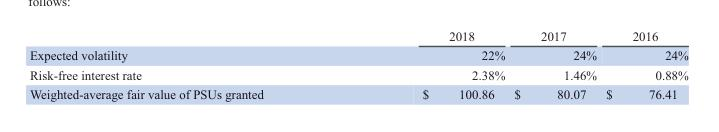table: (28, 28, 687, 101)
table column: (28, 28, 342, 101), (342, 28, 508, 101), (508, 28, 600, 101), (600, 28, 687, 101)
table column header: (28, 28, 687, 45)
table row: (28, 64, 687, 84), (28, 45, 687, 64), (28, 28, 687, 45), (28, 84, 687, 101)
